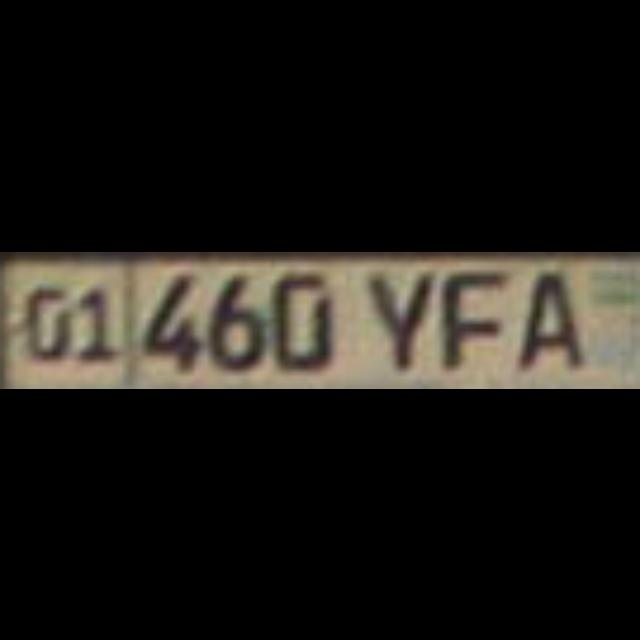0: (270, 270, 328, 364), (18, 279, 62, 355)
1: (76, 279, 114, 355)
4: (138, 270, 195, 370)
6: (199, 270, 261, 364)
A: (512, 265, 578, 365)
F: (436, 265, 502, 365)
Y: (365, 270, 427, 364)
